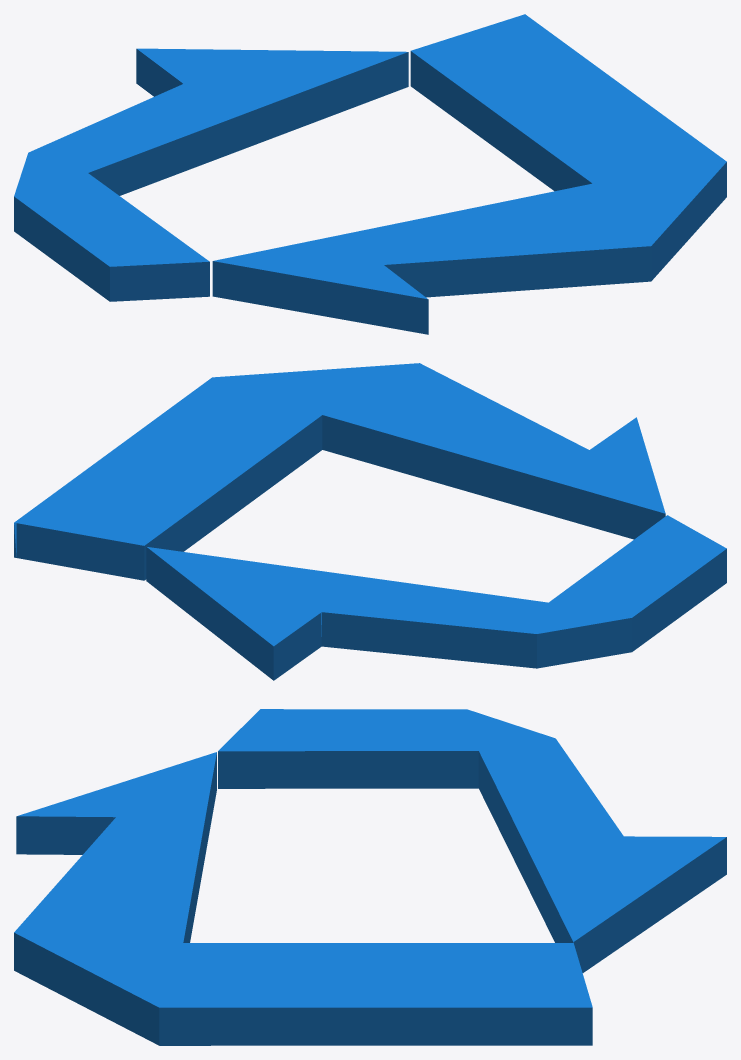
File: devops_icon.glb
3 views of the same model, one above another, from view 1: azimuth 30°, elevation 25°; view 2: azimuth 150°, elevation 25°; view 3: azimuth 270°, elevation 25° (orthographic). The views are drawn at different scales.
Visible parts, largest first — view 1: BézierCurve.001, BézierCurve; view 2: BézierCurve.001, BézierCurve; view 3: BézierCurve.001, BézierCurve.
Boxes of the visible parts, x1,y1,x2,y2 form: BézierCurve.001: [212, 14, 726, 334]; BézierCurve: [14, 48, 408, 301]; BézierCurve.001: [14, 363, 665, 580]; BézierCurve: [146, 515, 726, 680]; BézierCurve.001: [14, 752, 592, 1045]; BézierCurve: [218, 709, 726, 972].
Bounding box in the file's own units: 2.5 × 0.1486 × 2.52.
